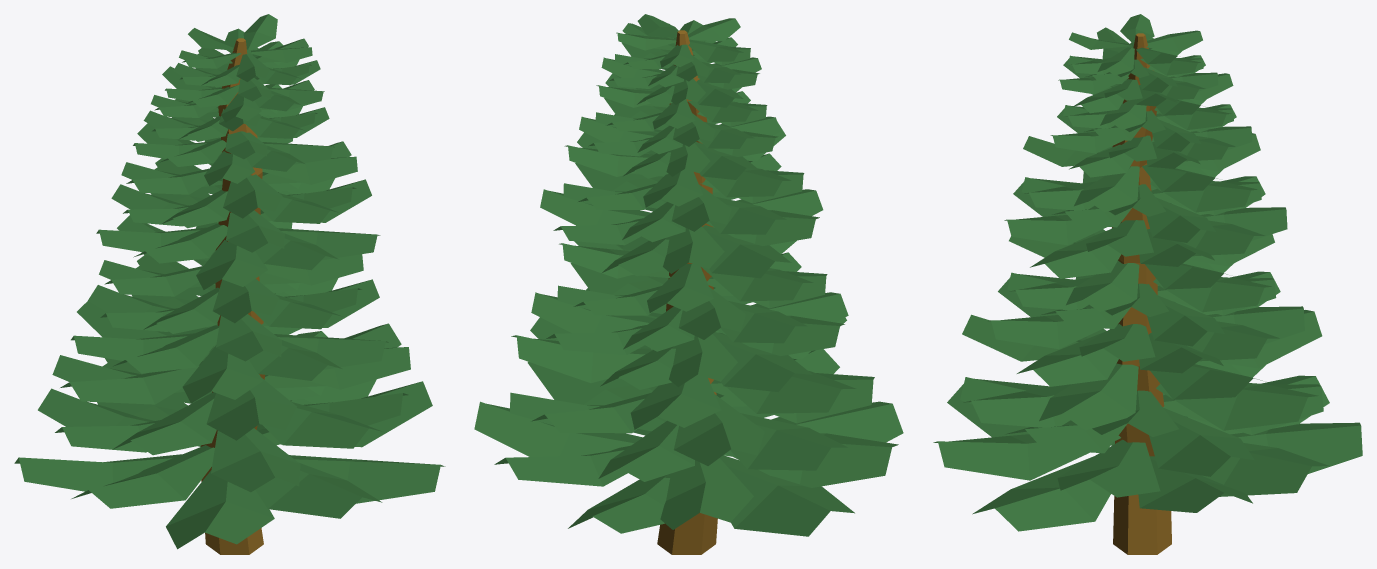
Rendered from BigSpruce.fbx.
The picture shows the model from 3 angles, left to right: view 1: azimuth 30°, elevation 25°; view 2: azimuth 150°, elevation 25°; view 3: azimuth 270°, elevation 25°; orthographic projection.
Visible parts, largest first — view 1: TreeBigSpruce.006; view 2: TreeBigSpruce.006; view 3: TreeBigSpruce.006.
Part boxes in pixels (bbox=[...]): TreeBigSpruce.006: bbox=[14, 14, 445, 554]; TreeBigSpruce.006: bbox=[474, 14, 903, 554]; TreeBigSpruce.006: bbox=[933, 14, 1362, 554].
Bounding box in the file's own units: 245 × 325 × 247.
